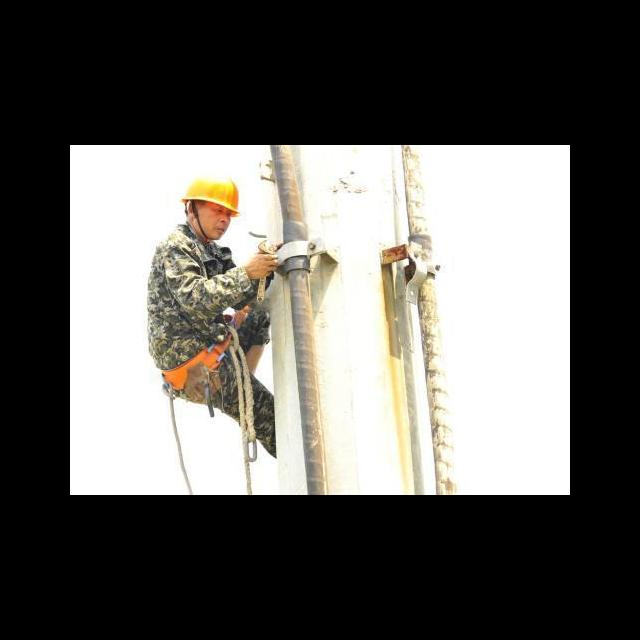Hardhat: (178, 174, 242, 216)
NO-Mask: (199, 216, 225, 240)
NO-Safety Vest: (146, 232, 231, 359)
Person: (144, 173, 277, 460)
